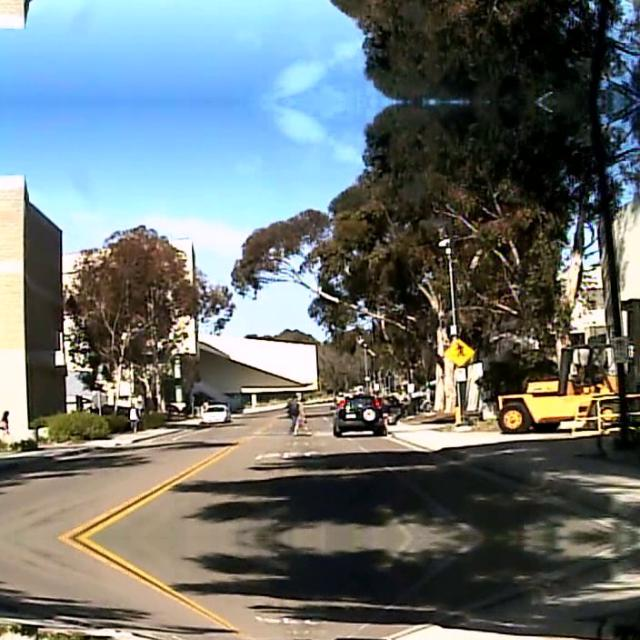pedestrianCrossing: (444, 336, 474, 366)
